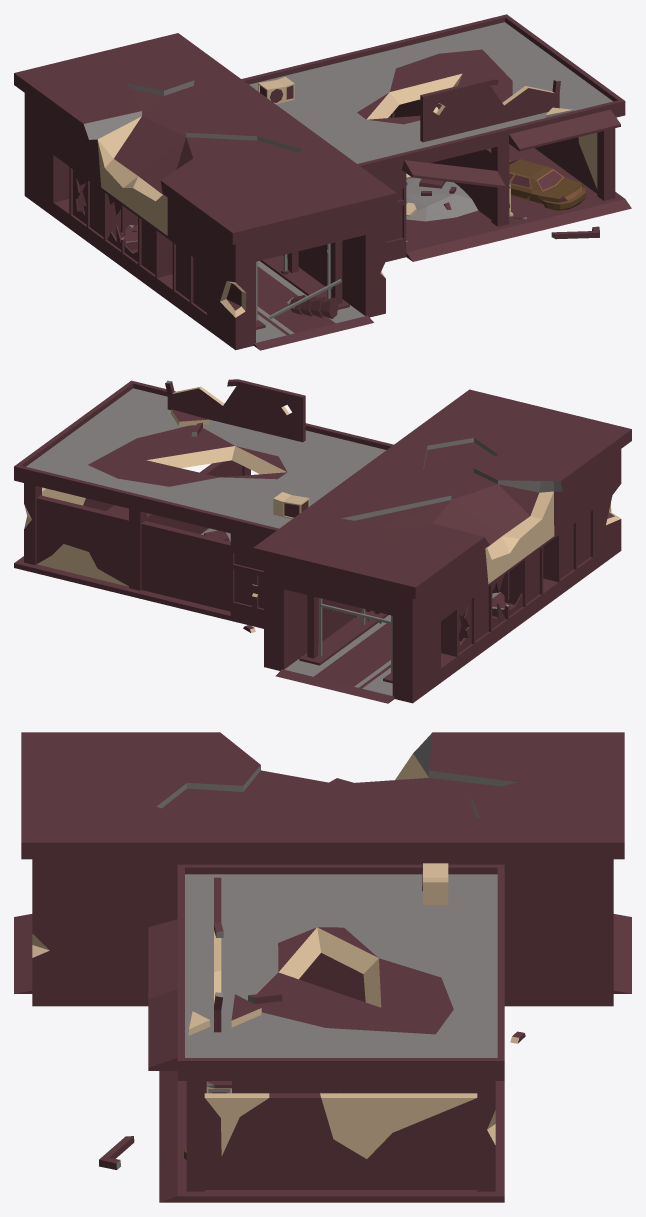
The model's file is building-carwash-apocalypse.fbx.
The picture shows the model from 3 angles, top to bottom: view 1: azimuth 30°, elevation 25°; view 2: azimuth 150°, elevation 25°; view 3: azimuth 270°, elevation 25°; orthographic projection. The views are drawn at different scales.
Visible parts, largest first — view 1: building-carwash-apocalypse; view 2: building-carwash-apocalypse; view 3: building-carwash-apocalypse.
Part boxes in pixels (x1,y1,x2,y2): building-carwash-apocalypse: [14, 14, 631, 350]; building-carwash-apocalypse: [14, 379, 631, 703]; building-carwash-apocalypse: [14, 732, 631, 1202].
Size of the model in its own units: 19.7 by 6 by 17.
